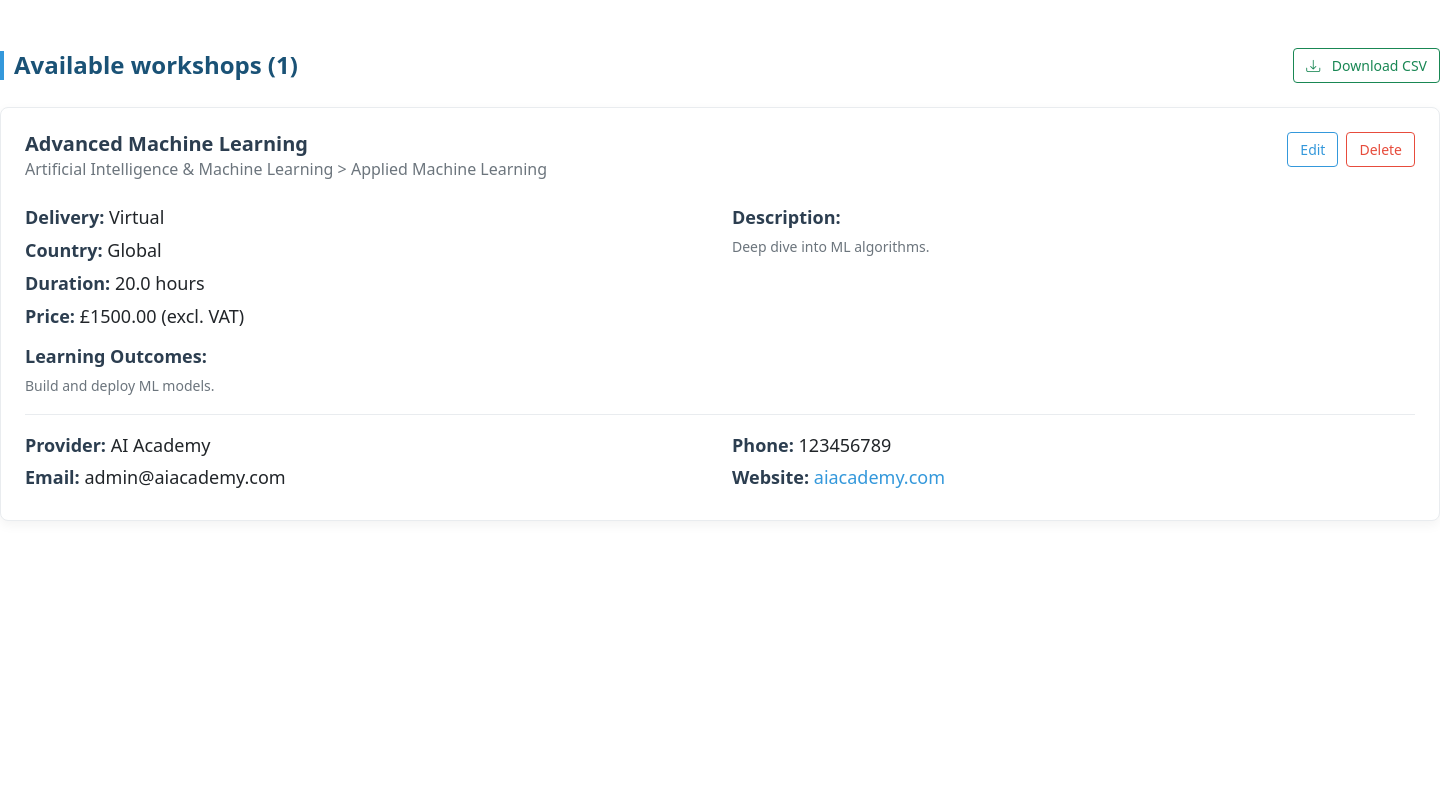
Test: CoursesAdmin Component › shows error on delete failure
This screenshot has width=1452, height=810.
Expected: the heading "Available workshops (1)" is shown, [0,51,298,80]
What coordinates should you click on to do the following:
click the button "Delete"
I would click on:
 (1381, 150)
Its box is [1346,132,1415,167].
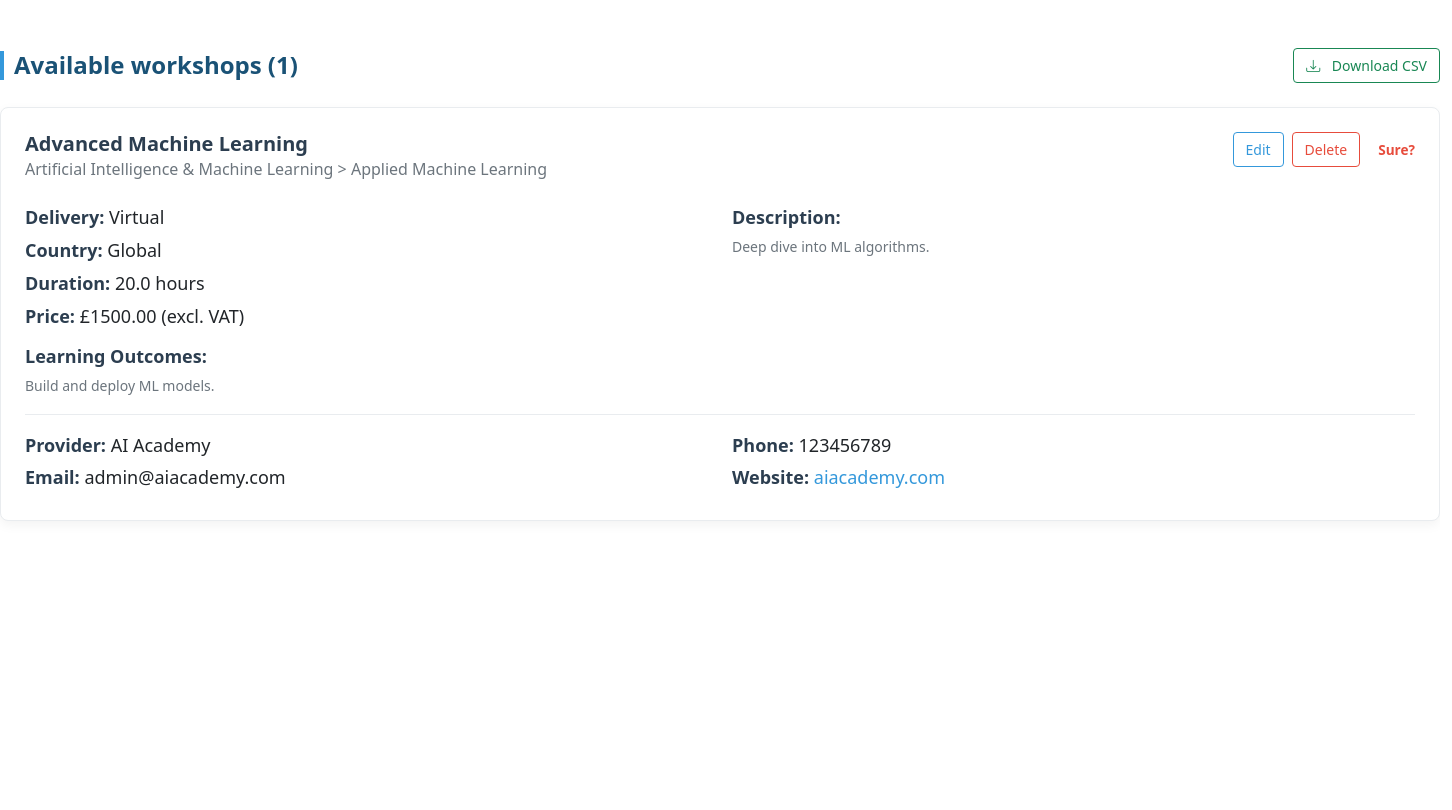
What coordinates should you click on to do the following:
click the button "Delete"
I would click on:
 (1326, 150)
Its box is [1292,132,1360,167].
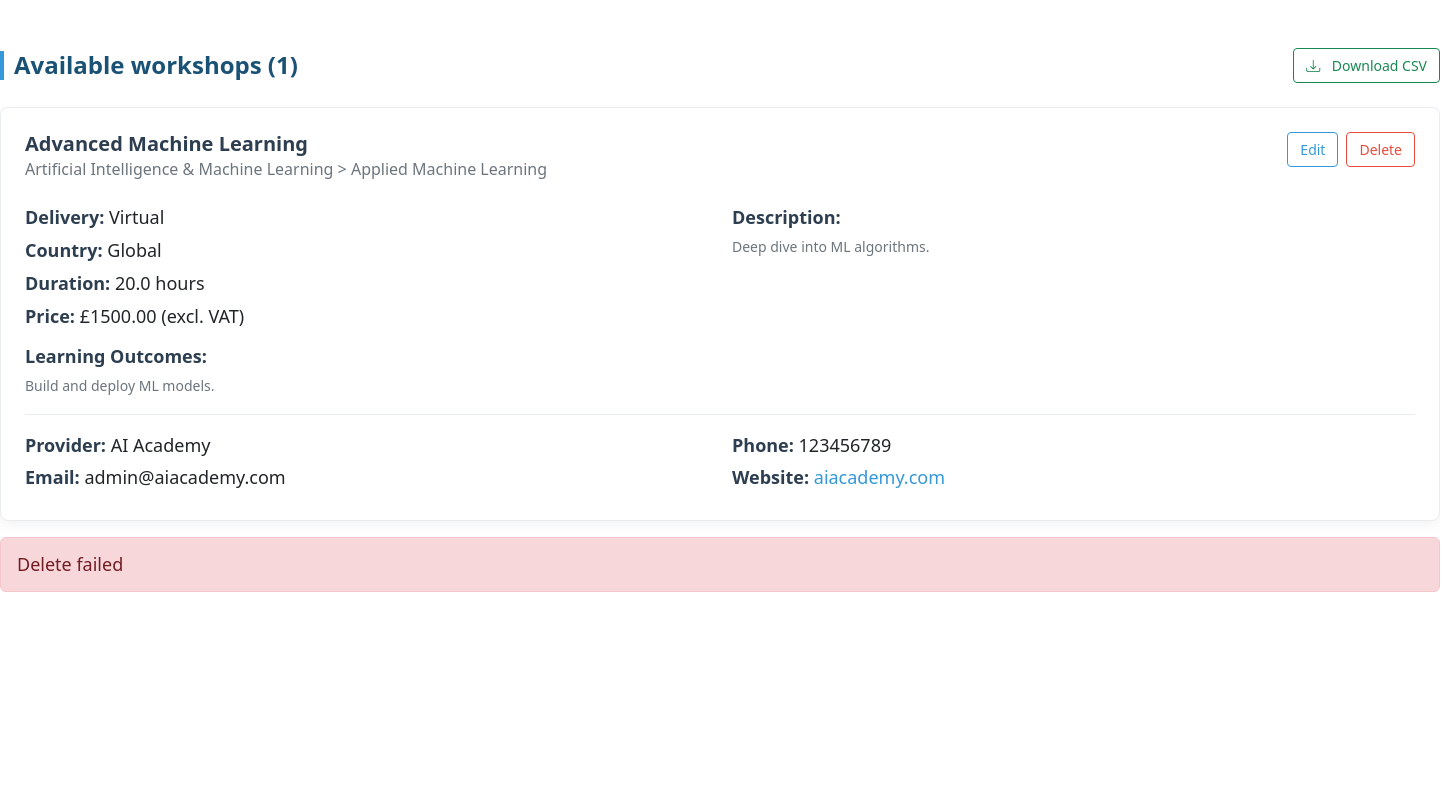
Expected: the text "Delete failed" is shown, [0,537,1440,592]
